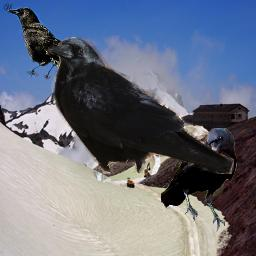Crow: (47, 37, 234, 174), (161, 128, 237, 232), (4, 6, 84, 87)
